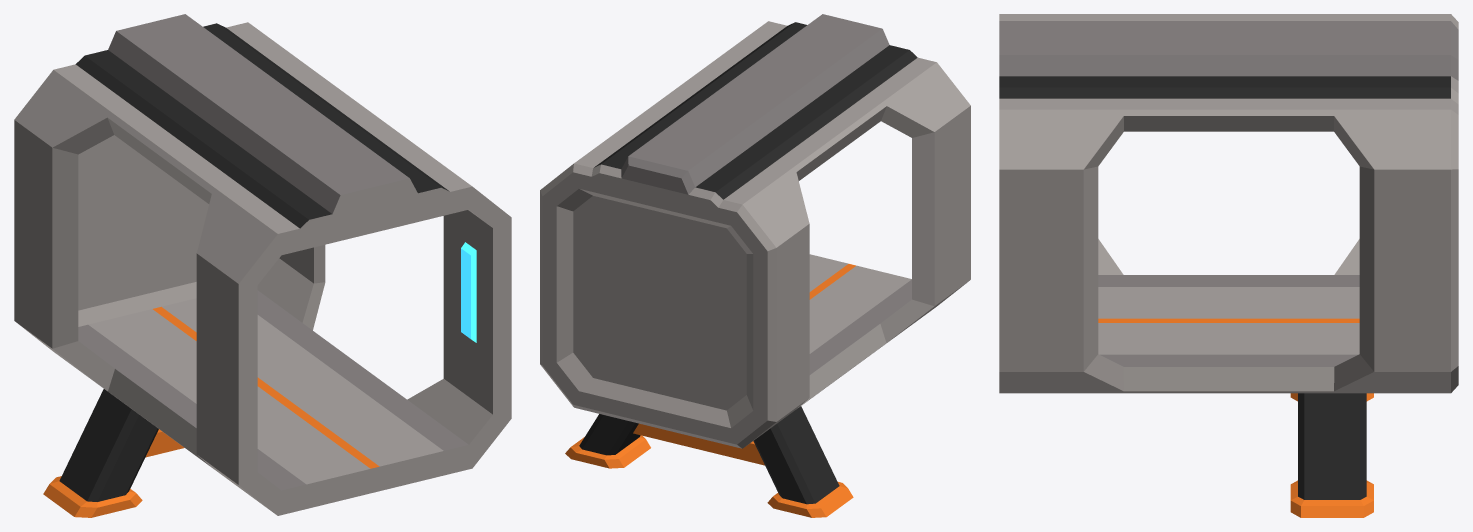
The model's file is scifi_scifi-planet-base-hall-two-end.fbx.
3 views of the same model, side by side, from view 1: azimuth 30°, elevation 25°; view 2: azimuth 150°, elevation 25°; view 3: azimuth 270°, elevation 25° (orthographic). The views are drawn at different scales.
Visible parts, largest first — view 1: scifi_scifi_planet_base_hall_two_end; view 2: scifi_scifi_planet_base_hall_two_end; view 3: scifi_scifi_planet_base_hall_two_end.
Part boxes in pixels (x1,y1,x2,y2): scifi_scifi_planet_base_hall_two_end: [14, 14, 511, 517]; scifi_scifi_planet_base_hall_two_end: [540, 14, 970, 517]; scifi_scifi_planet_base_hall_two_end: [999, 14, 1458, 517].
Size of the model in its own units: 153 by 195 by 200.
